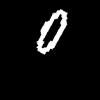chain: (37, 10, 66, 53)
